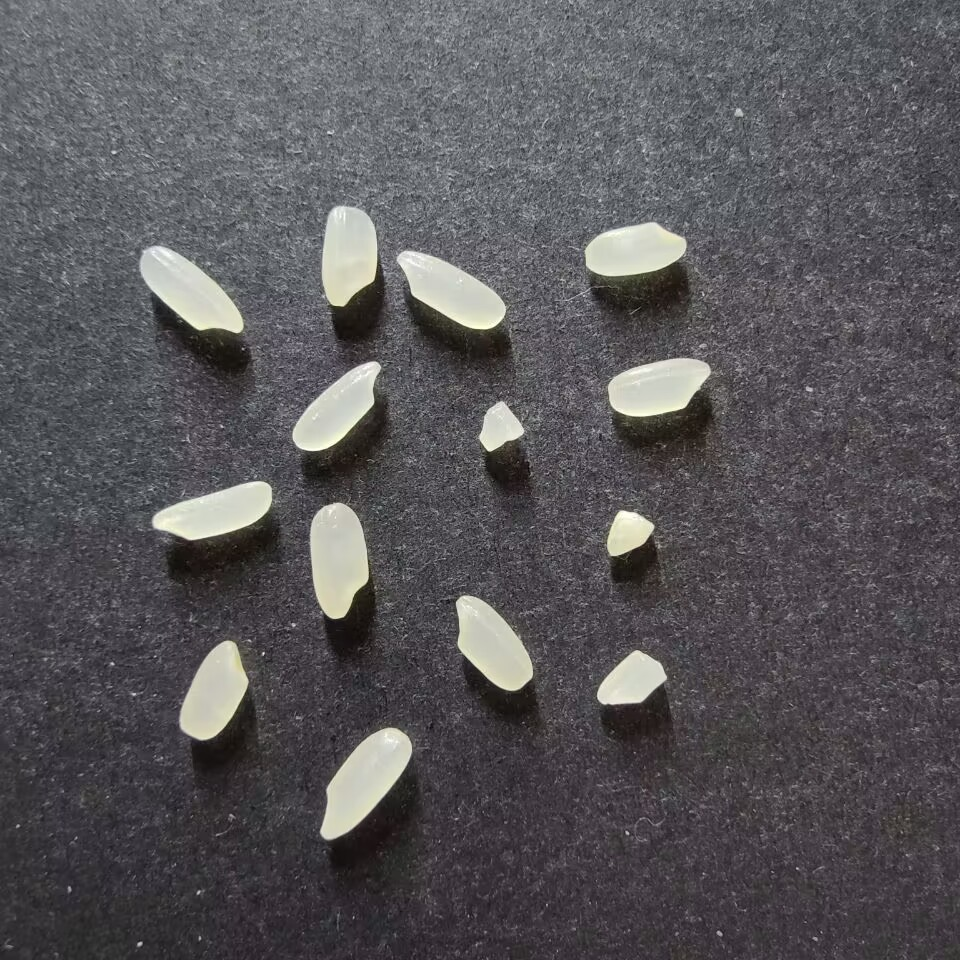broken: (596, 648, 668, 706), (604, 508, 656, 557), (477, 400, 525, 452)
rice: (319, 726, 413, 841), (139, 245, 244, 335), (395, 248, 505, 330), (291, 360, 382, 452), (455, 594, 533, 692), (151, 480, 272, 540), (178, 638, 248, 741), (309, 502, 369, 620), (607, 357, 711, 416), (583, 221, 687, 277), (320, 205, 377, 307)
